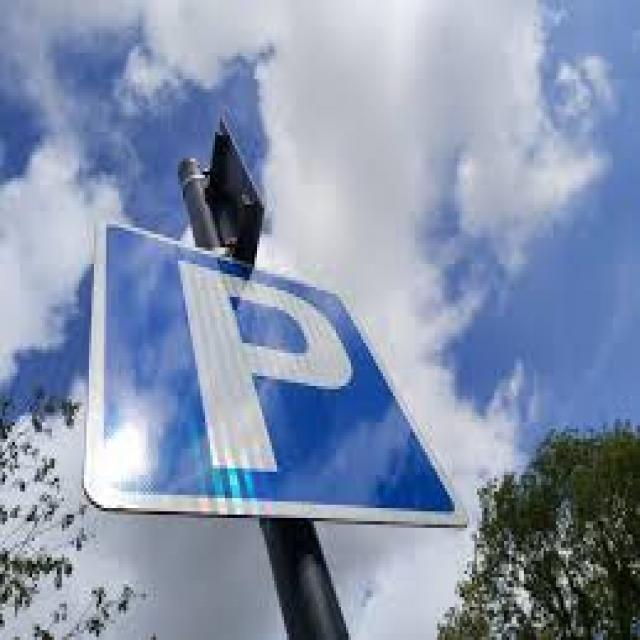parking: (90, 215, 472, 536)
